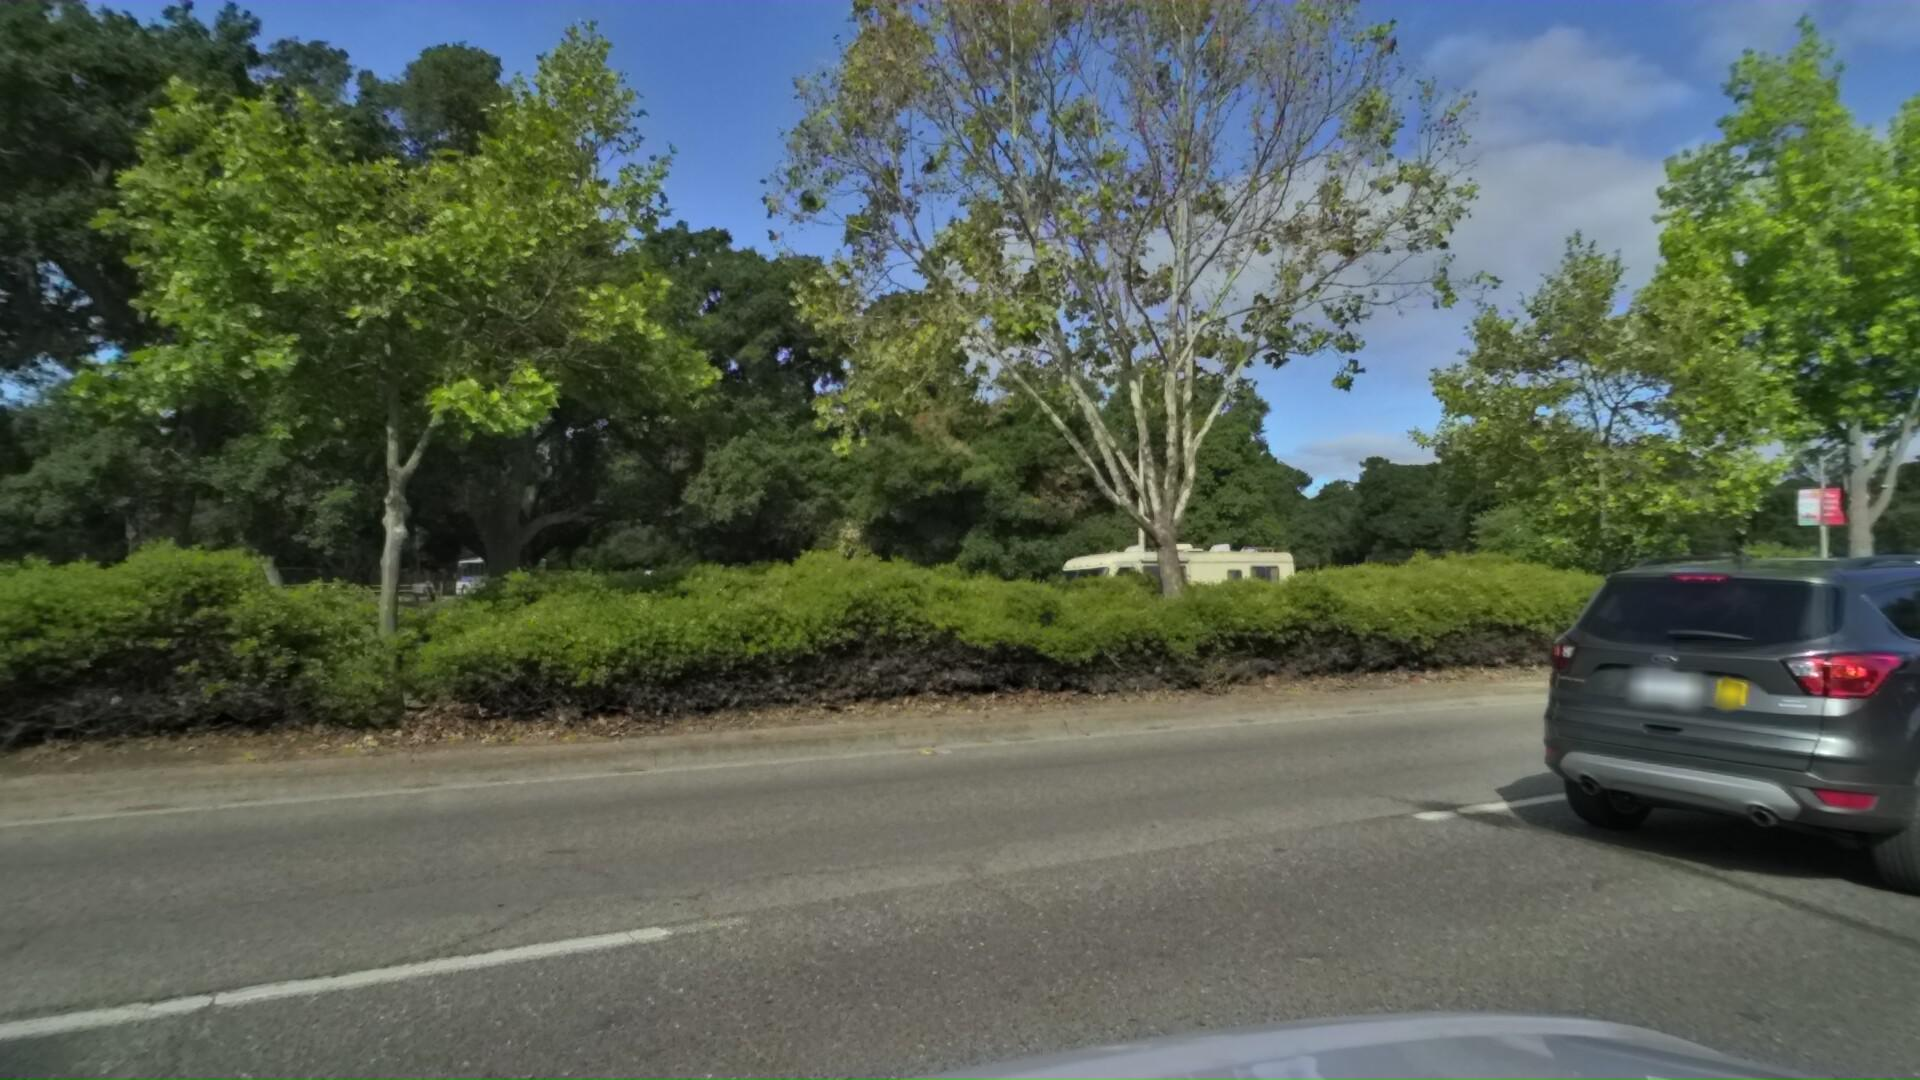car: (1482, 531, 1920, 945)
other_vehicle: (1034, 525, 1308, 646), (1855, 547, 1920, 620)
truck: (1640, 554, 1809, 626)
